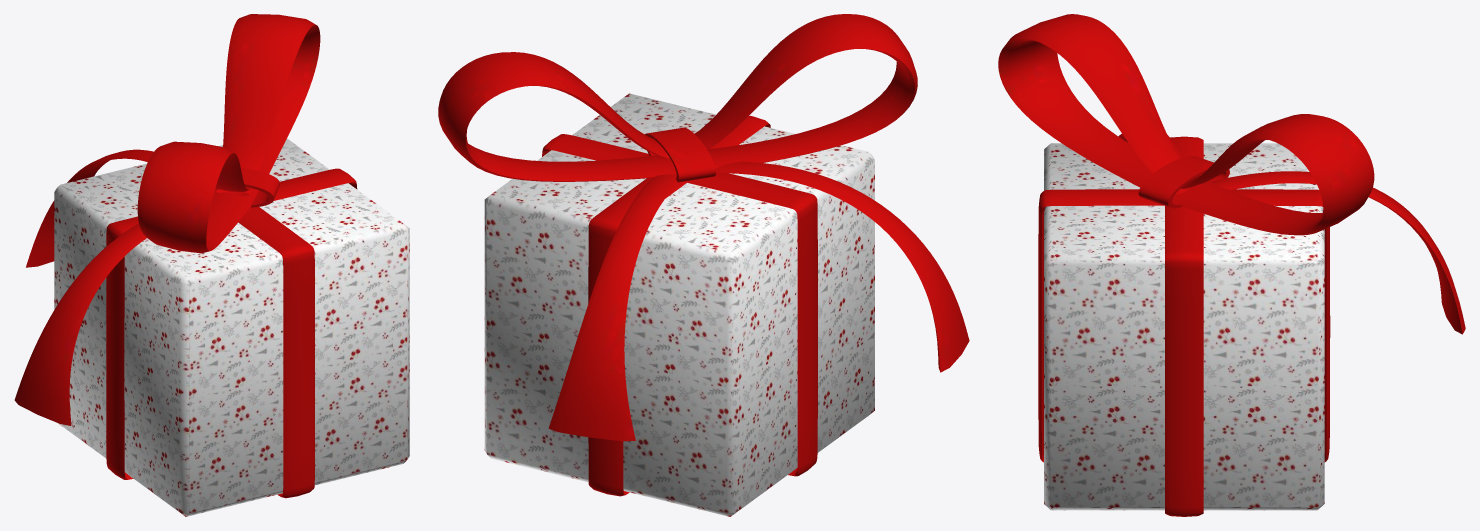
The model's file is sovga-quti.glb.
The picture shows the model from 3 angles, left to right: view 1: azimuth 30°, elevation 25°; view 2: azimuth 150°, elevation 25°; view 3: azimuth 270°, elevation 25°; orthographic projection. The views are drawn at different scales.
Visible parts, largest first — view 1: Cube; view 2: Cube; view 3: Cube.
Boxes of the visible parts, box(x1,y1,x2,y2) form: Cube: box(14, 14, 409, 516); Cube: box(438, 14, 969, 516); Cube: box(998, 14, 1465, 516).
Bounding box in the file's own units: 3.34 × 3.02 × 3.33.
1 material, 1 textured.
